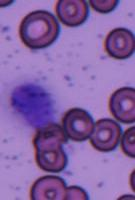L: (6, 74, 60, 129)
